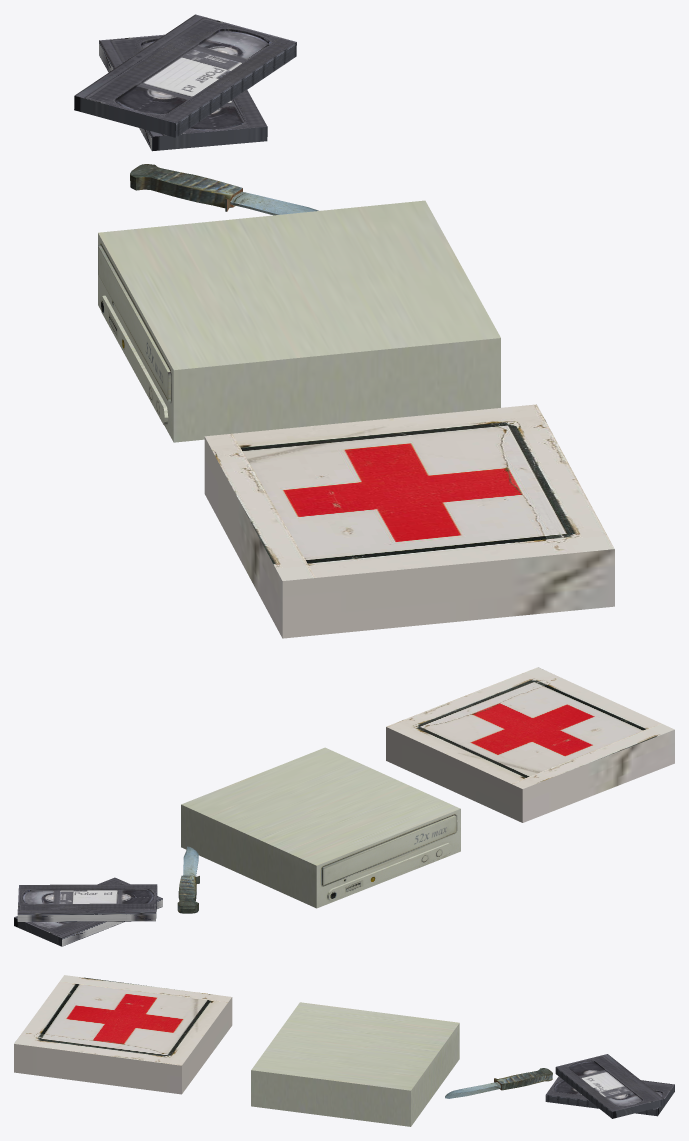
File: Pack5.fbx
The picture shows the model from 3 angles, top to bottom: view 1: azimuth 30°, elevation 25°; view 2: azimuth 150°, elevation 25°; view 3: azimuth 270°, elevation 25°; orthographic projection. The views are drawn at different scales.
Parts seen in each view (by area): view 1: Cube.002, Cube.003, Cube.001, Cube, Plane; view 2: Cube.002, Cube.003, Cube.001, Cube, Plane; view 3: Cube.002, Cube.003, Cube.001, Cube, Plane.
Part boxes in pixels (<box>): Cube.002: <box>98,200,500,442</box>; Cube.003: <box>204,404,614,638</box>; Cube.001: <box>74,14,296,137</box>; Cube: <box>99,34,267,151</box>; Plane: <box>130,164,319,215</box>; Cube.002: <box>181,747,460,908</box>; Cube.003: <box>386,667,674,822</box>; Cube.001: <box>17,884,157,922</box>; Cube: <box>14,877,162,946</box>; Plane: <box>177,846,199,913</box>; Cube.002: <box>251,1002,459,1126</box>; Cube.003: <box>14,975,232,1094</box>; Cube.001: <box>555,1054,664,1118</box>; Cube: <box>545,1076,674,1116</box>; Plane: <box>445,1068,552,1098</box>.
Size of the model in its own units: 1309 by 161 by 2664.
